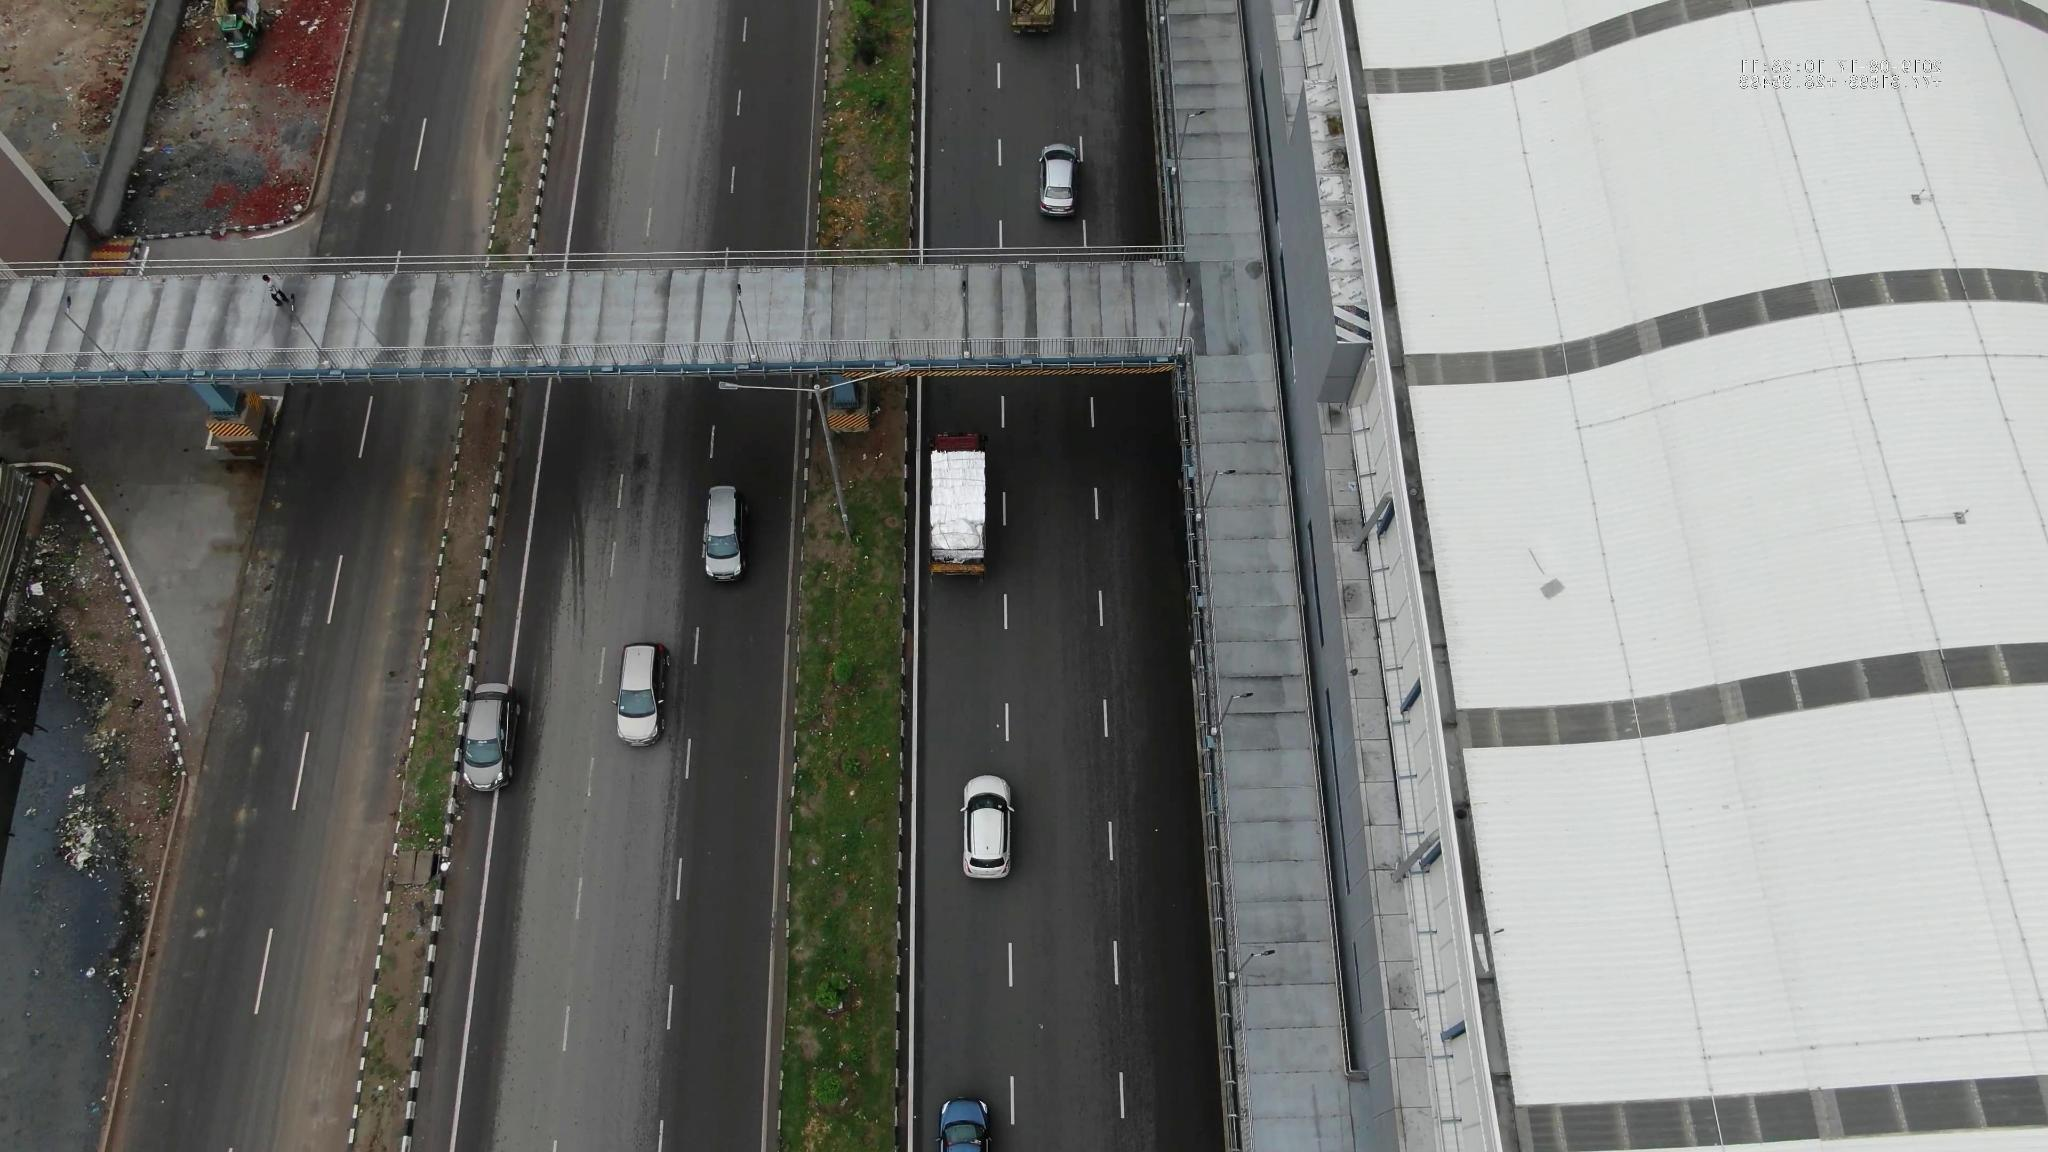Potholes: (349, 23, 416, 142), (321, 176, 378, 257)
